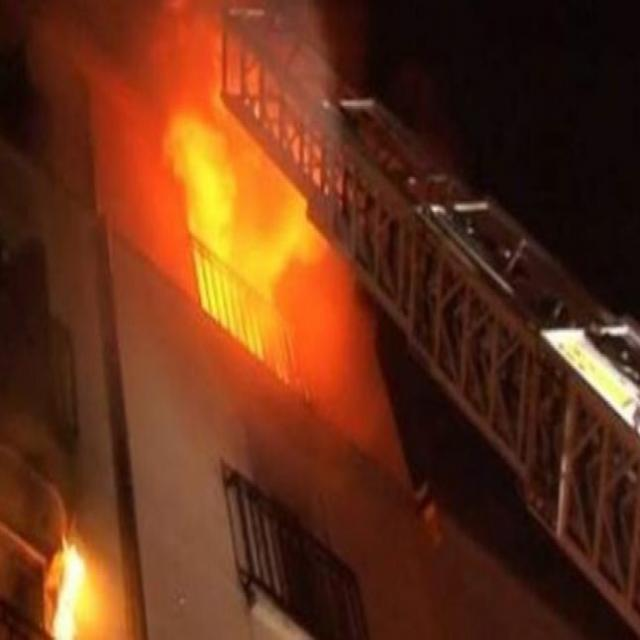Fire: (167, 0, 384, 405), (44, 545, 95, 640)
